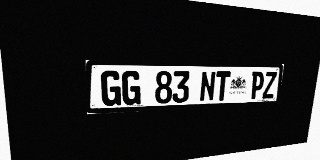3: (172, 71, 190, 103)
8: (155, 71, 173, 104)
G: (101, 70, 121, 106), (122, 71, 141, 105)
N: (199, 71, 216, 102)
P: (249, 71, 265, 99)
T: (214, 71, 231, 101)
Z: (262, 71, 277, 99)
